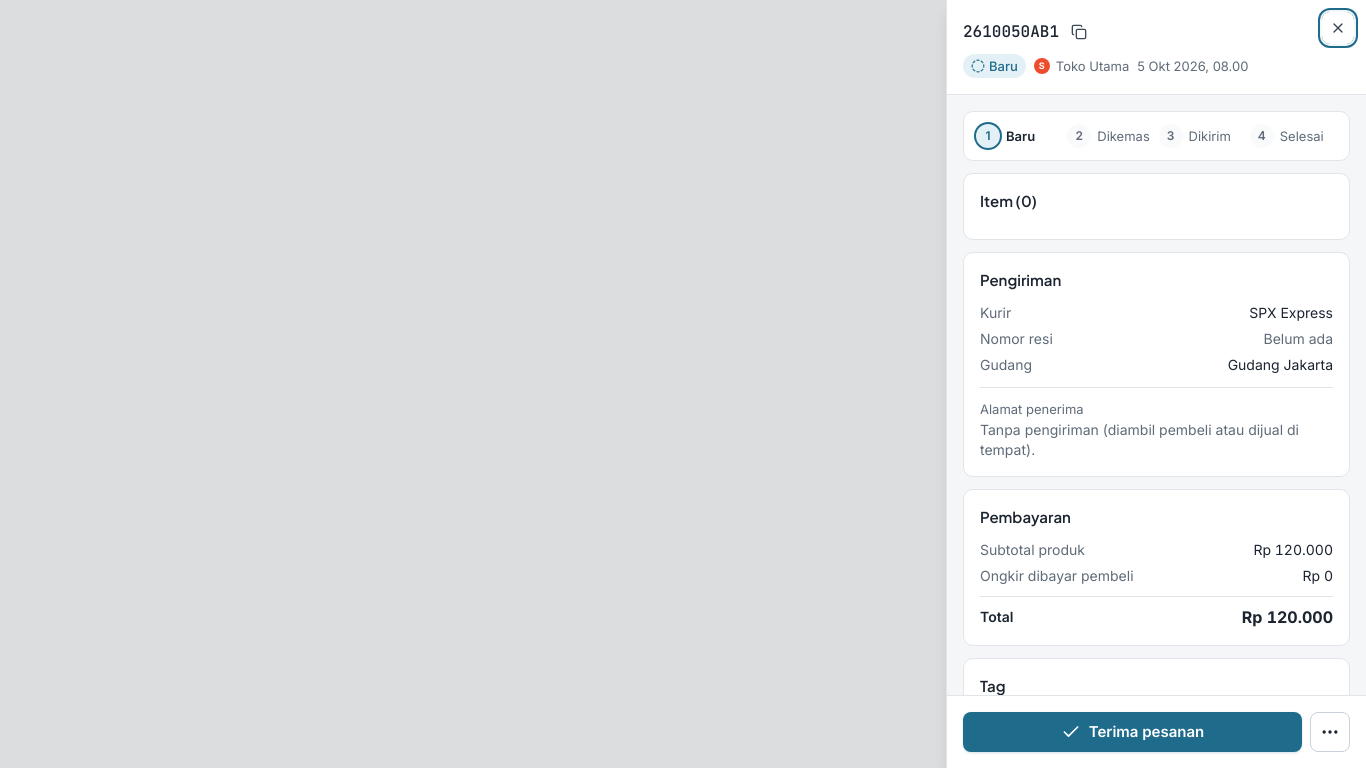
OrderDetailSheet: warehouse, tracking, and tags › keeps the warehouse when the marketplace placed it
Check: the text "Gudang Jakarta" is shown, box [1228,355,1333,375]
Click the button named "Aksi lain" at coordinates (1330, 732), box [1310,712,1350,752]
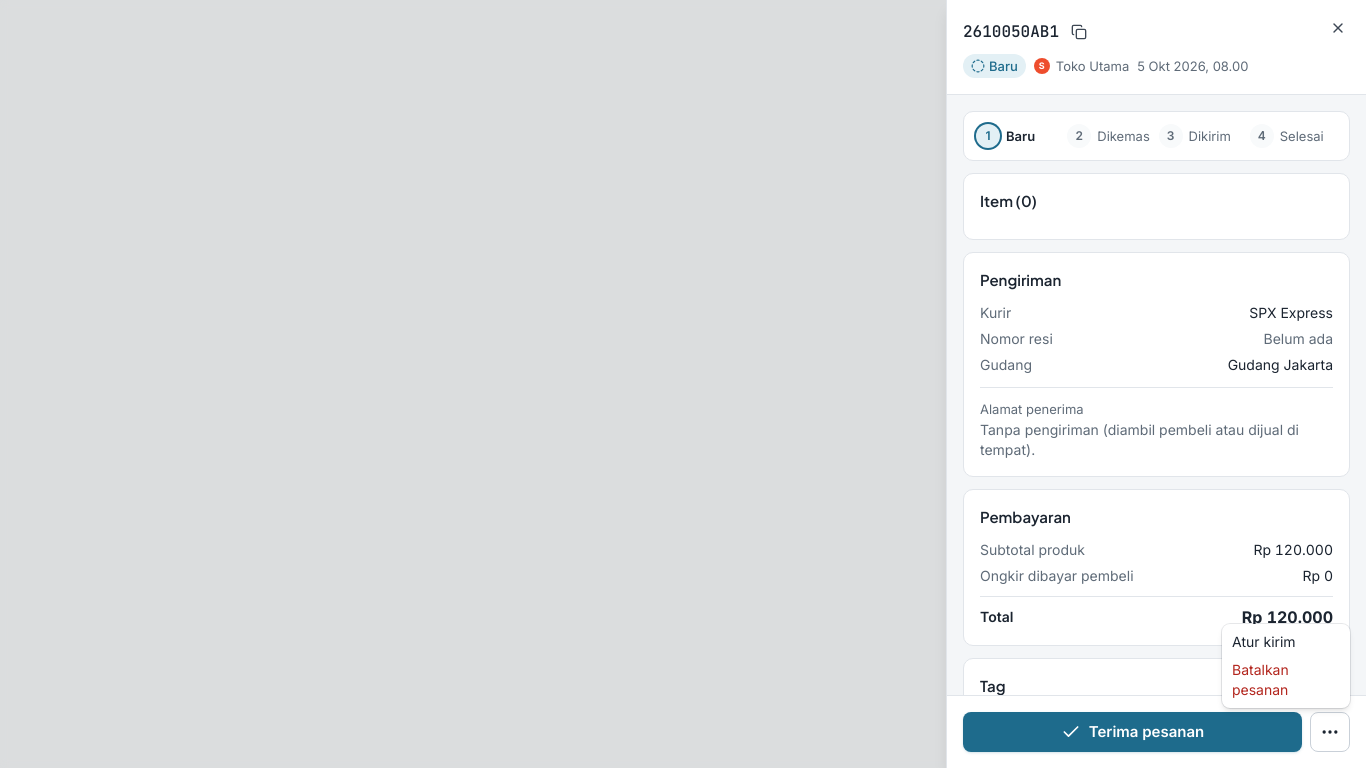
Check: the menu is shown, box [1222,624,1350,708]
